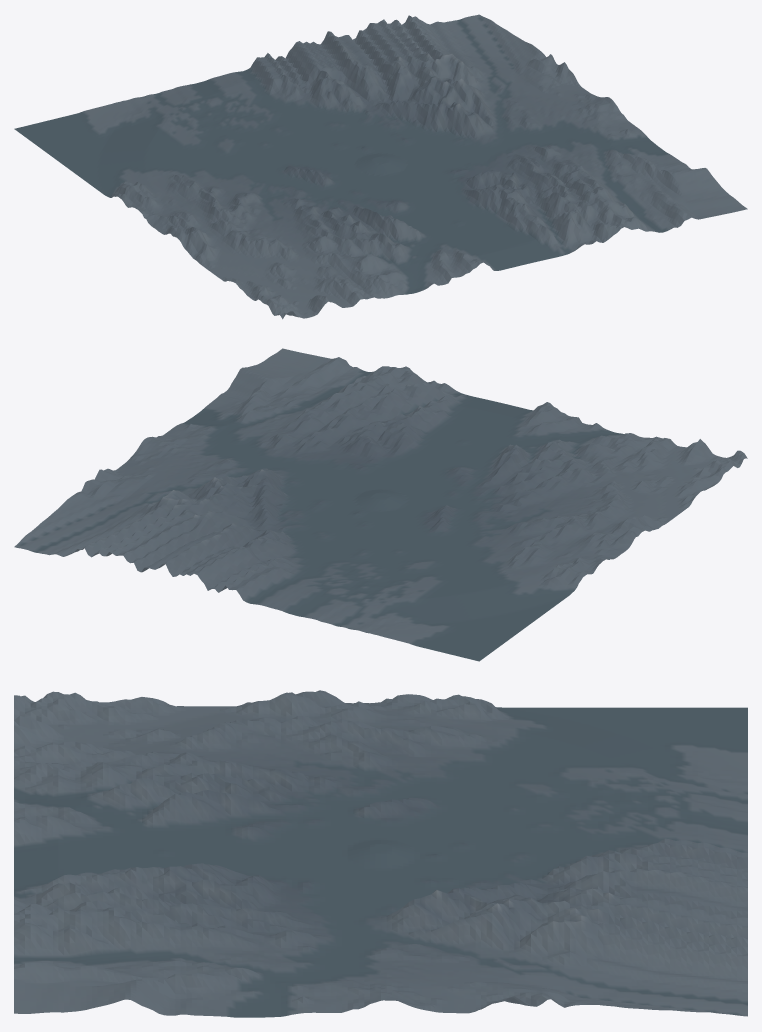
The model's file is airfield-ridges.glb.
3 renders of one model, top to bottom at view 1: azimuth 30°, elevation 25°; view 2: azimuth 150°, elevation 25°; view 3: azimuth 270°, elevation 25°, orthographic. The views are drawn at different scales.
Visible parts, largest first — view 1: Baked airfield ridges; view 2: Baked airfield ridges; view 3: Baked airfield ridges.
Part boxes in pixels (left/top/right/bottom): Baked airfield ridges: left=14, top=14, right=747, bottom=319; Baked airfield ridges: left=14, top=348, right=747, bottom=661; Baked airfield ridges: left=14, top=690, right=747, bottom=1017.
Size of the model in its own units: 14800 by 929 by 14800.
